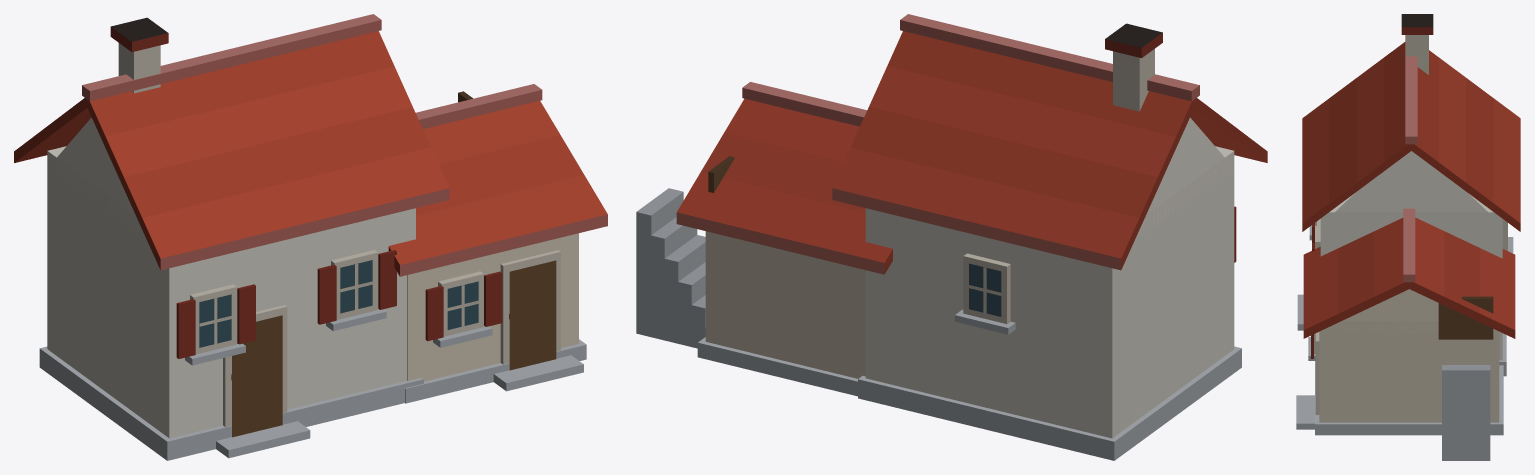
The model's file is house_white_b.glb.
3 views of the same model, side by side, from view 1: azimuth 30°, elevation 25°; view 2: azimuth 150°, elevation 25°; view 3: azimuth 270°, elevation 25° (orthographic). The views are drawn at different scales.
Visible parts, largest first — view 1: house_white_b; view 2: house_white_b; view 3: house_white_b.
Part boxes in pixels (box(x1,y1,x2,y2)): house_white_b: box(14, 14, 607, 460); house_white_b: box(636, 14, 1267, 460); house_white_b: box(1296, 14, 1520, 460).
Size of the model in its own units: 7.19 by 5.04 by 3.7.
